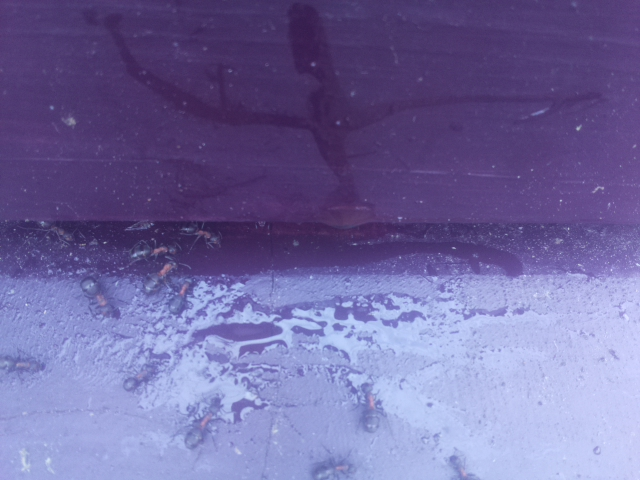ant: (176, 388, 229, 460), (71, 268, 125, 326), (171, 221, 226, 251), (135, 258, 182, 292), (358, 384, 387, 438), (123, 357, 159, 394), (122, 239, 172, 262), (443, 451, 481, 480), (167, 276, 195, 315), (0, 353, 39, 374)
